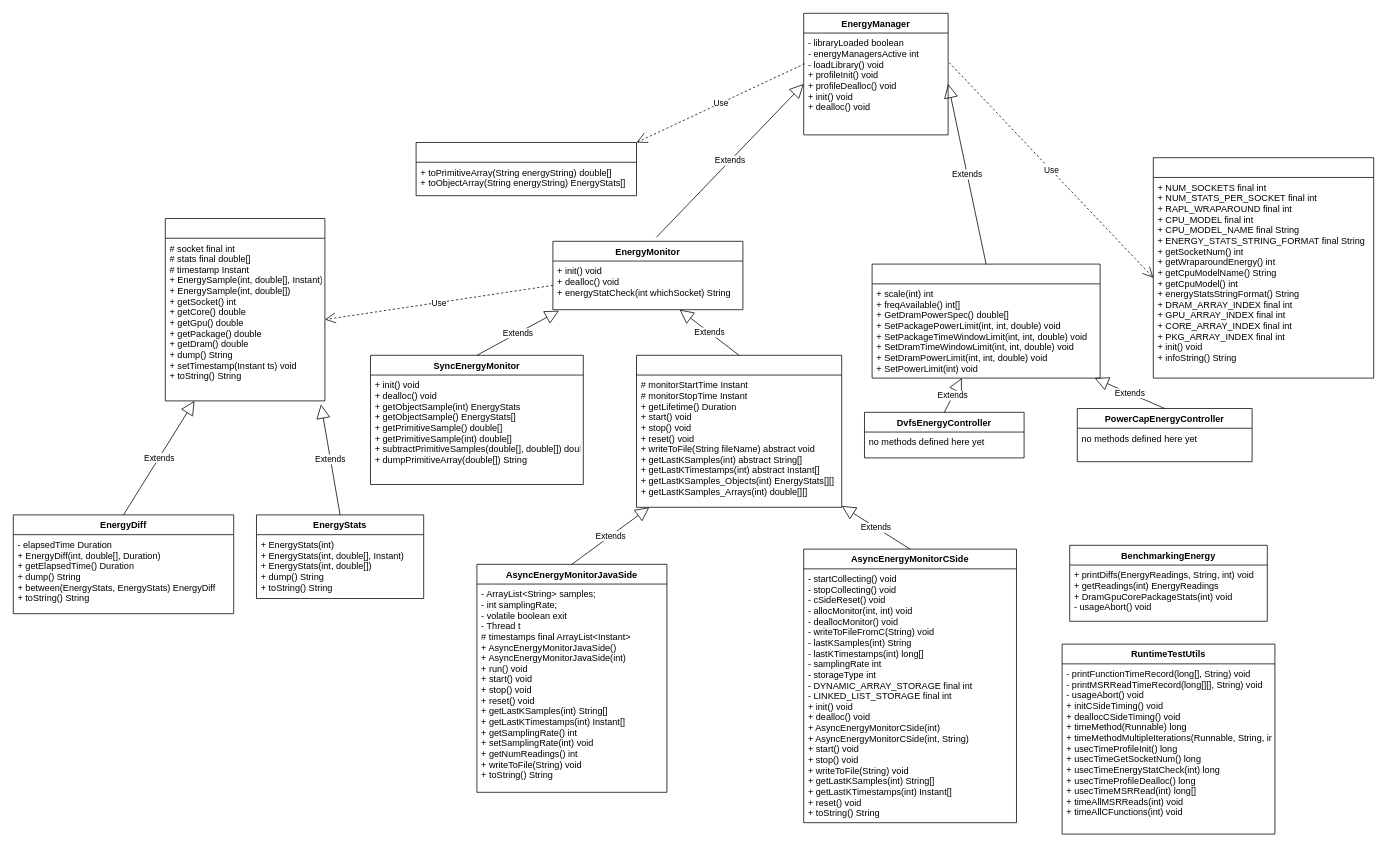
This 1387x850 diagram has some shape labels left out. Each missing label, with the box of its shape:
(abstract) EnergySample: (165, 218, 325, 401)
ArchSpec: (1153, 157, 1374, 378)
AsyncEnergyMonitor: (636, 355, 842, 507)
EnergyController: (871, 263, 1100, 378)
EnergyStringParser: (415, 142, 636, 196)
